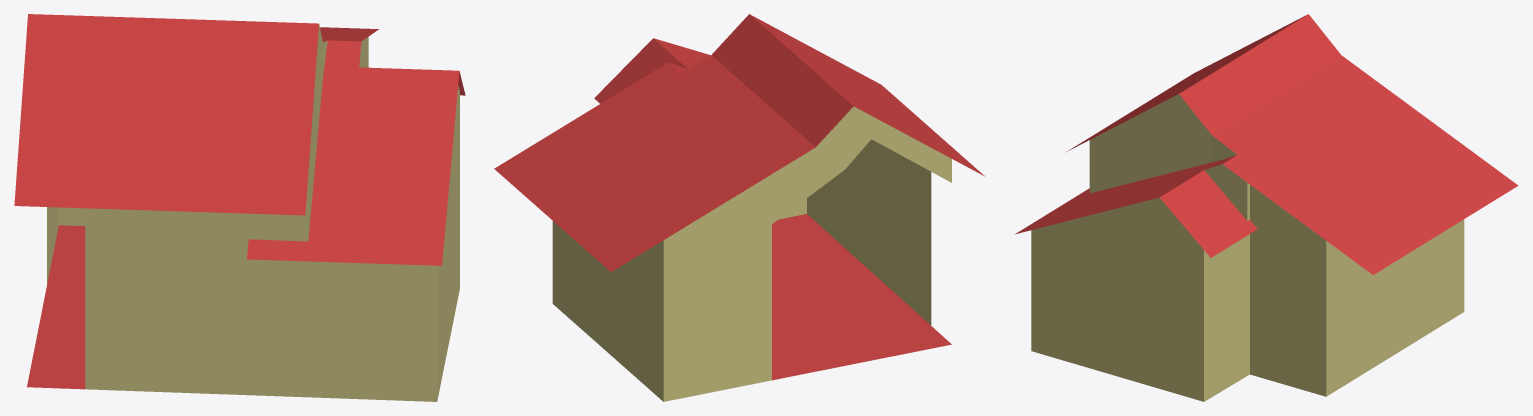
3 renders of one model, left to right at view 1: azimuth 30°, elevation 25°; view 2: azimuth 150°, elevation 25°; view 3: azimuth 270°, elevation 25°, orthographic. The views are drawn at different scales.
Size of the model in its own units: 24.77 by 28.75 by 15.6.
